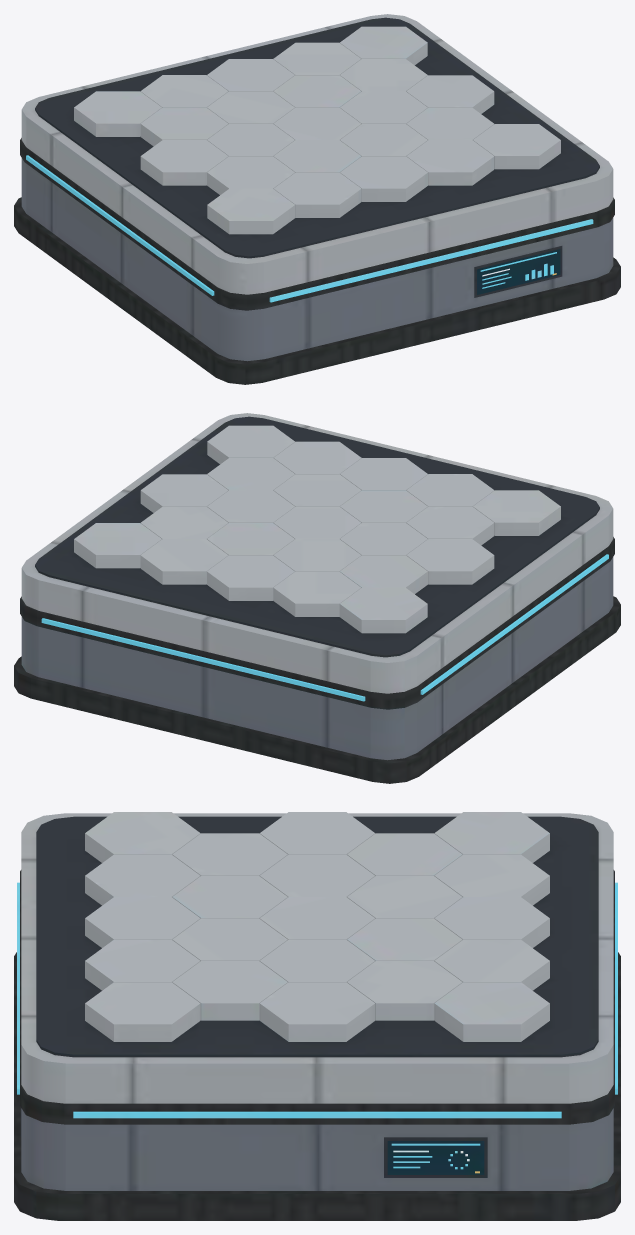
Rendered from enterprise_armor.glb.
The picture shows the model from 3 angles, top to bottom: view 1: azimuth 30°, elevation 25°; view 2: azimuth 150°, elevation 25°; view 3: azimuth 270°, elevation 25°; orthographic projection. The views are drawn at different scales.
Parts seen in each view (by area): view 1: te_enterprise_armor; view 2: te_enterprise_armor; view 3: te_enterprise_armor.
Boxes of the visible parts, x1=… form: te_enterprise_armor: x1=14, y1=14, x2=620, y2=384; te_enterprise_armor: x1=14, y1=413, x2=620, y2=783; te_enterprise_armor: x1=14, y1=812, x2=620, y2=1220.
Bounding box in the file's own units: 0.82 × 0.26 × 0.82.
Materials: 1 (1 with a texture image).
